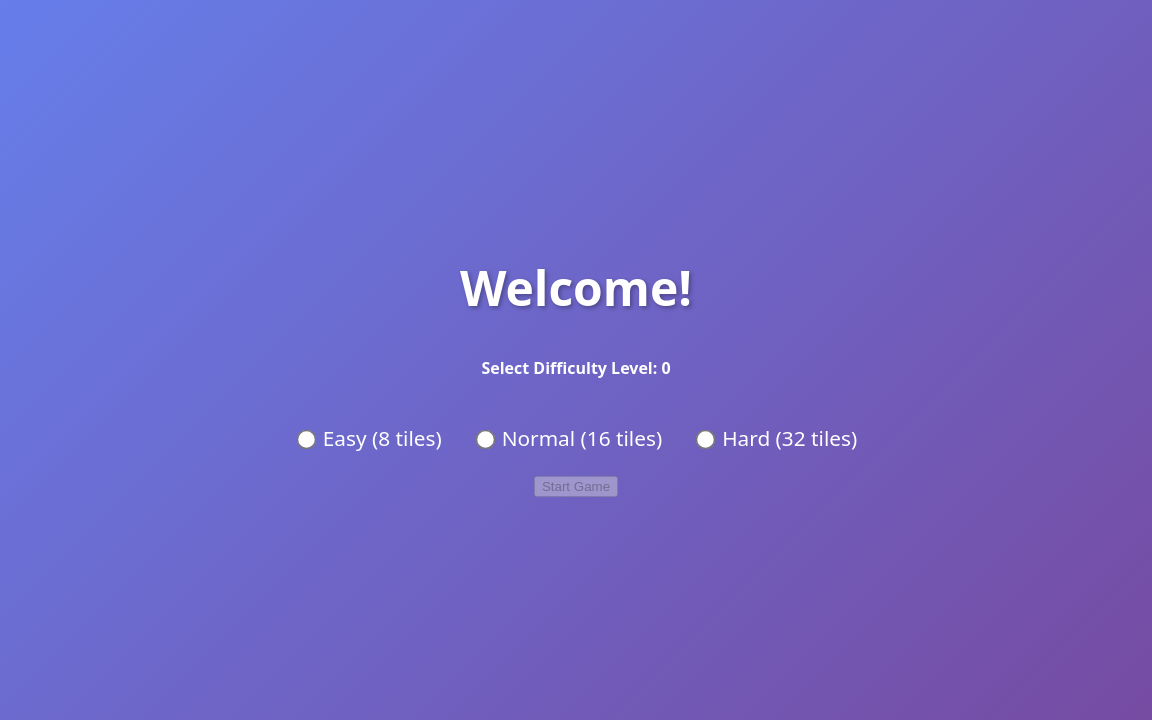
Test case: Memory game › Validating different modes
The width and height of the screenshot is (1152, 720).
Check the radio button with id "easy": (307, 440) [297, 430, 317, 450]
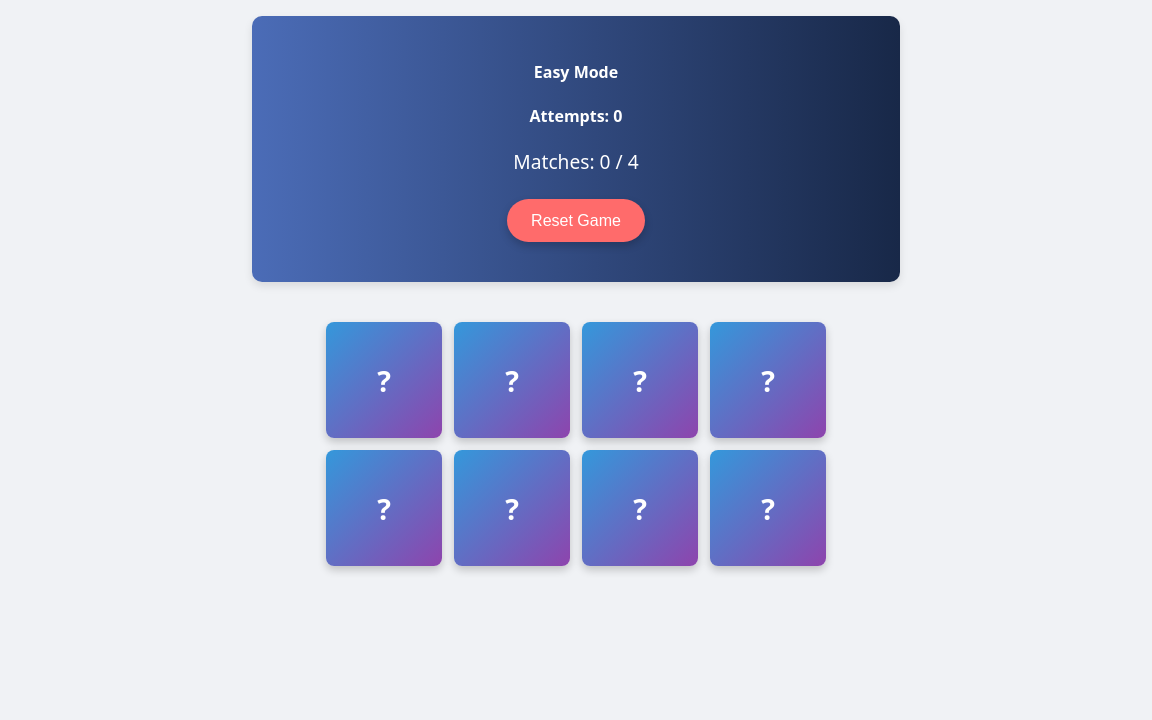
Check: the heading "Easy Mode" is shown, box [534, 61, 618, 83]
Check: the number of elements with class "tile" is 8
Open "http://localhost:8080"
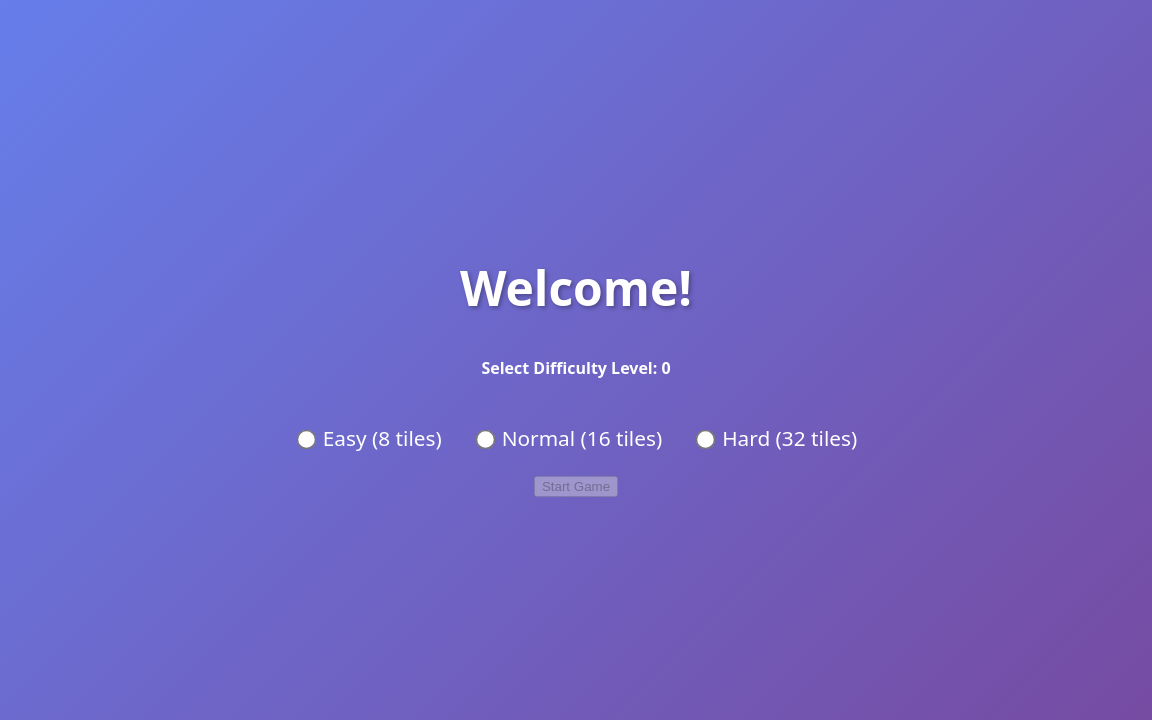
Check: the radio button with id "normal" is shown
Check the radio button with id "normal": (485, 440) [475, 430, 495, 450]
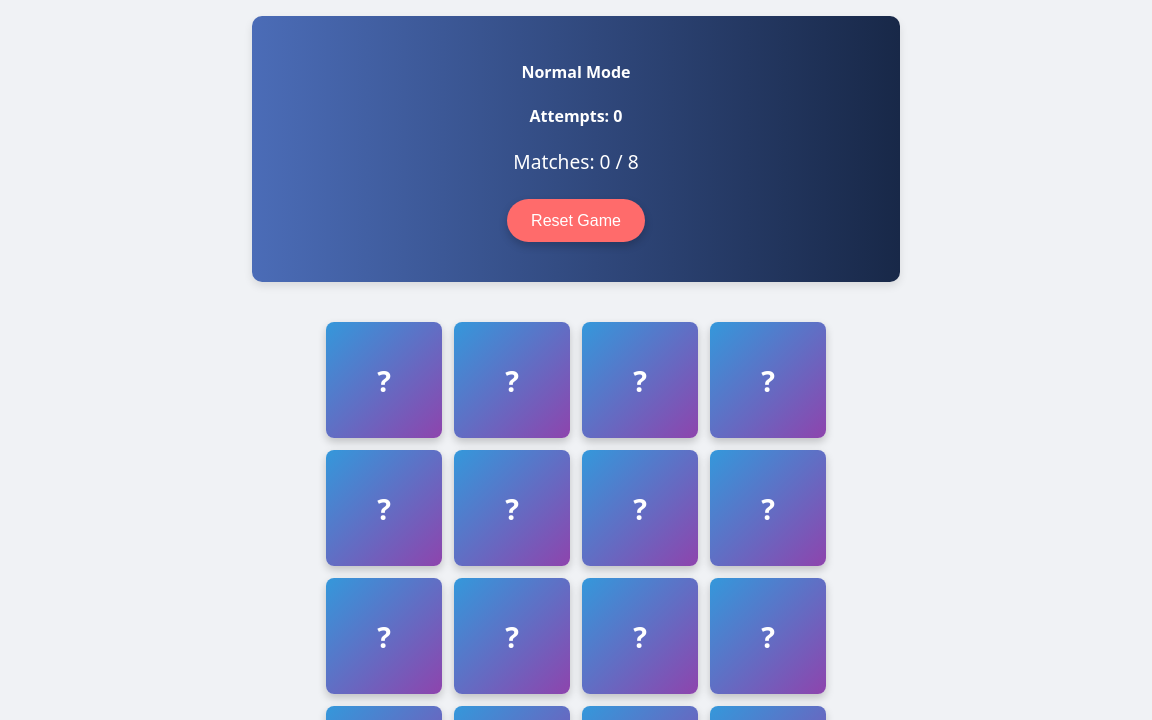
Check: the heading "Normal Mode" is shown, box [521, 61, 631, 83]
Check: the number of elements with class "tile" is 16
Open "http://localhost:8080"
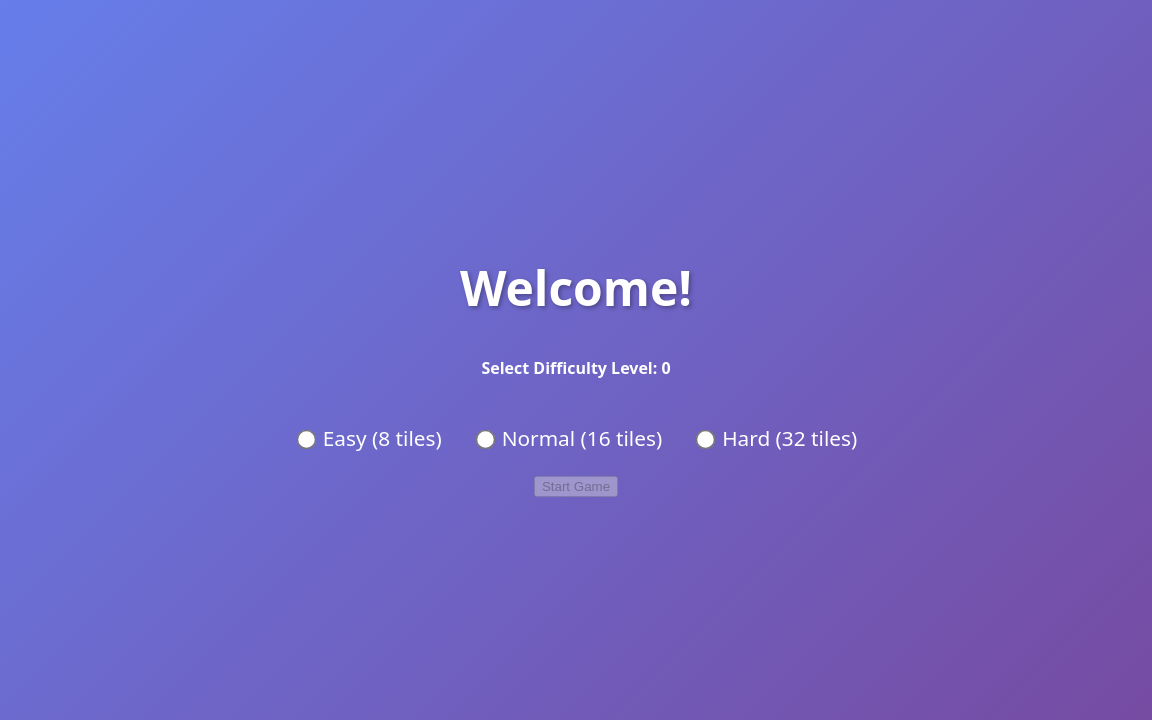
Check: the radio button with id "hard" is shown
Check the radio button with id "hard": (706, 440) [696, 430, 716, 450]
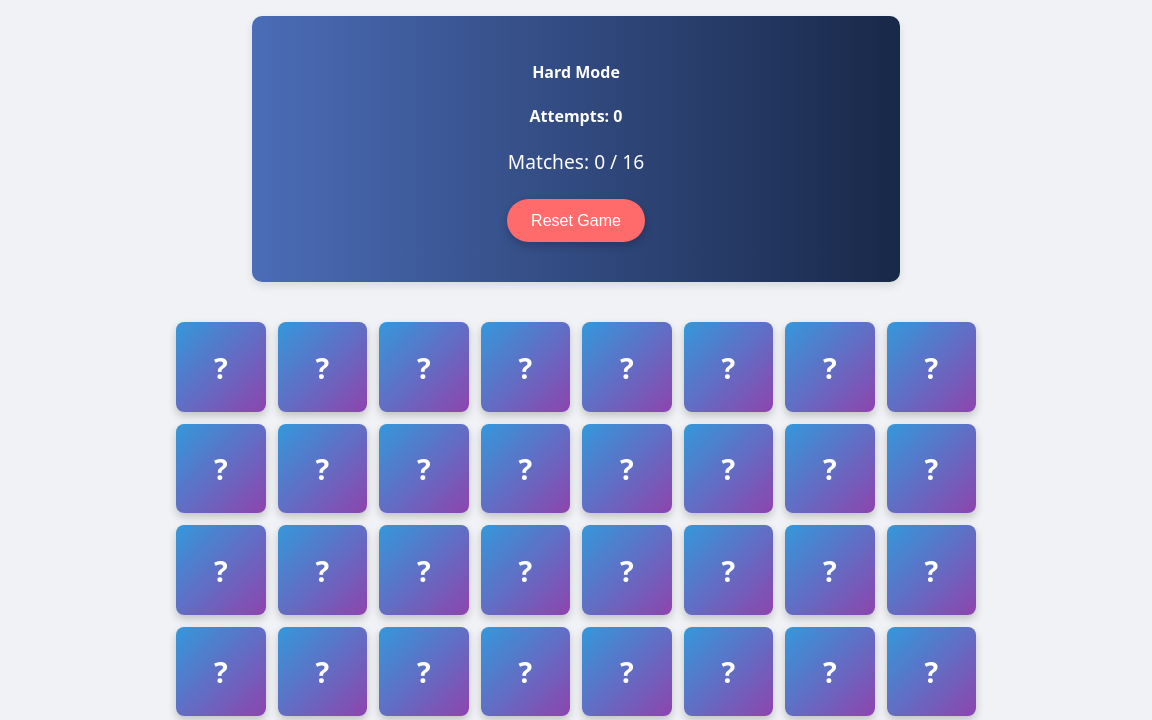
Check: the heading "Hard Mode" is shown, box [532, 61, 620, 83]
Check: the number of elements with class "tile" is 32
